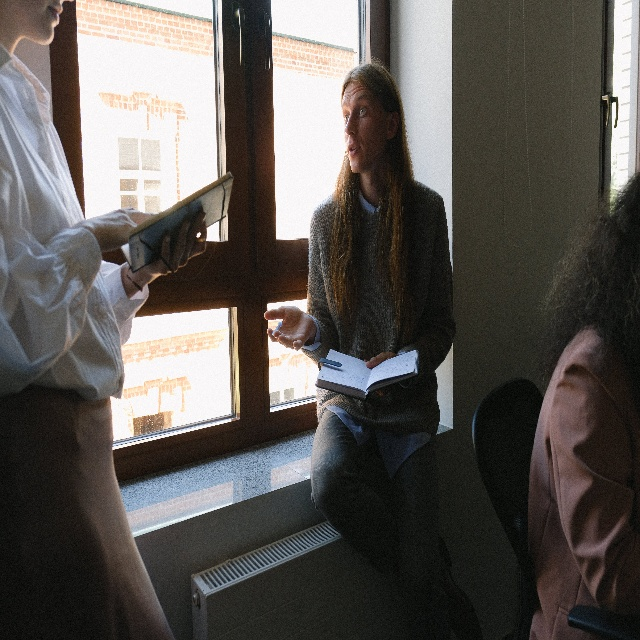Sin_guantes: (146, 211, 209, 279), (264, 305, 314, 354), (89, 210, 151, 244), (364, 353, 397, 396)
